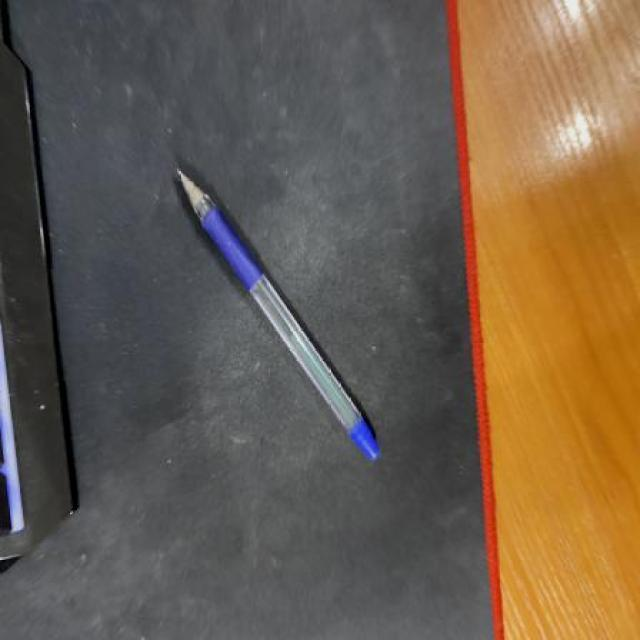pen: (177, 166, 384, 468)
